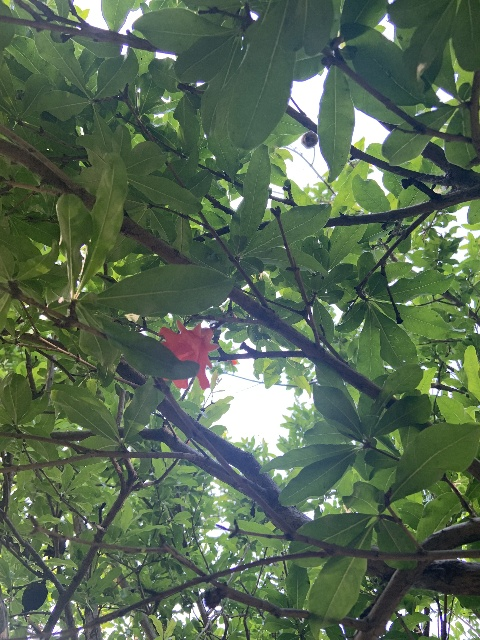flower: (157, 318, 220, 391)
